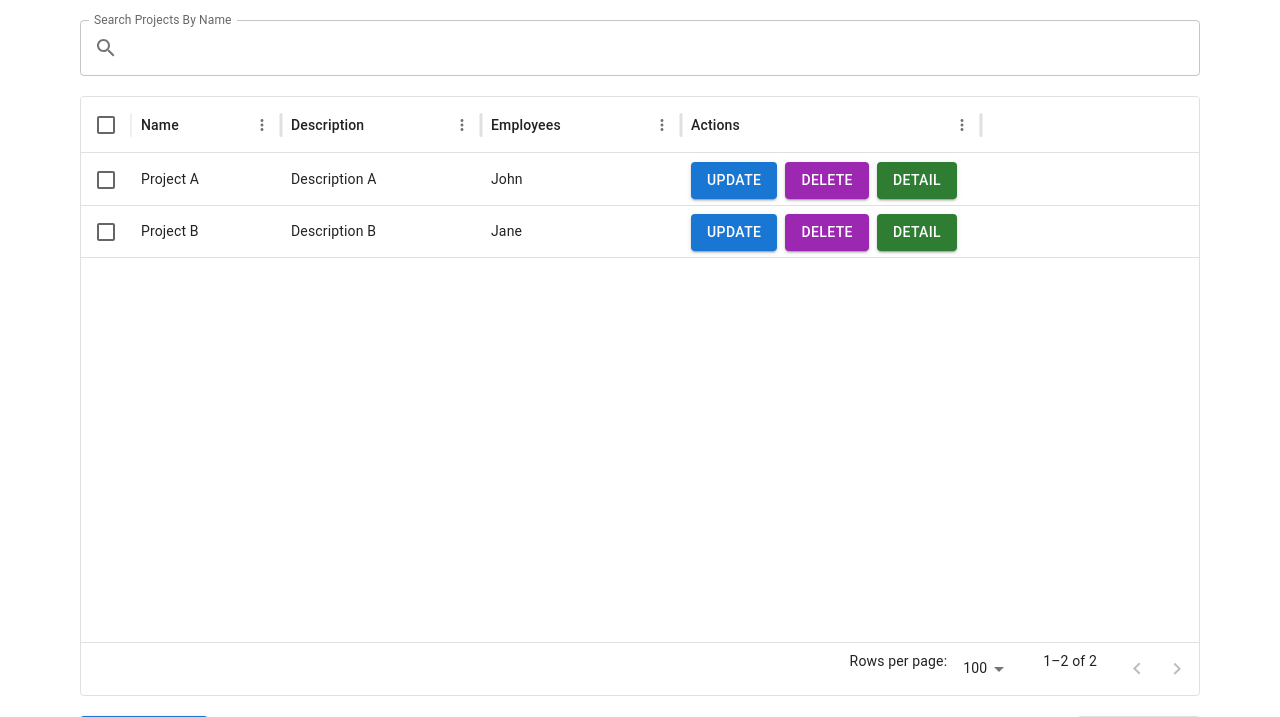
Test: ListProjectsComponent › handles project deletion failure
Click the button "Delete" in the row of "Project A". click: (827, 180)
box: [785,162,869,198]
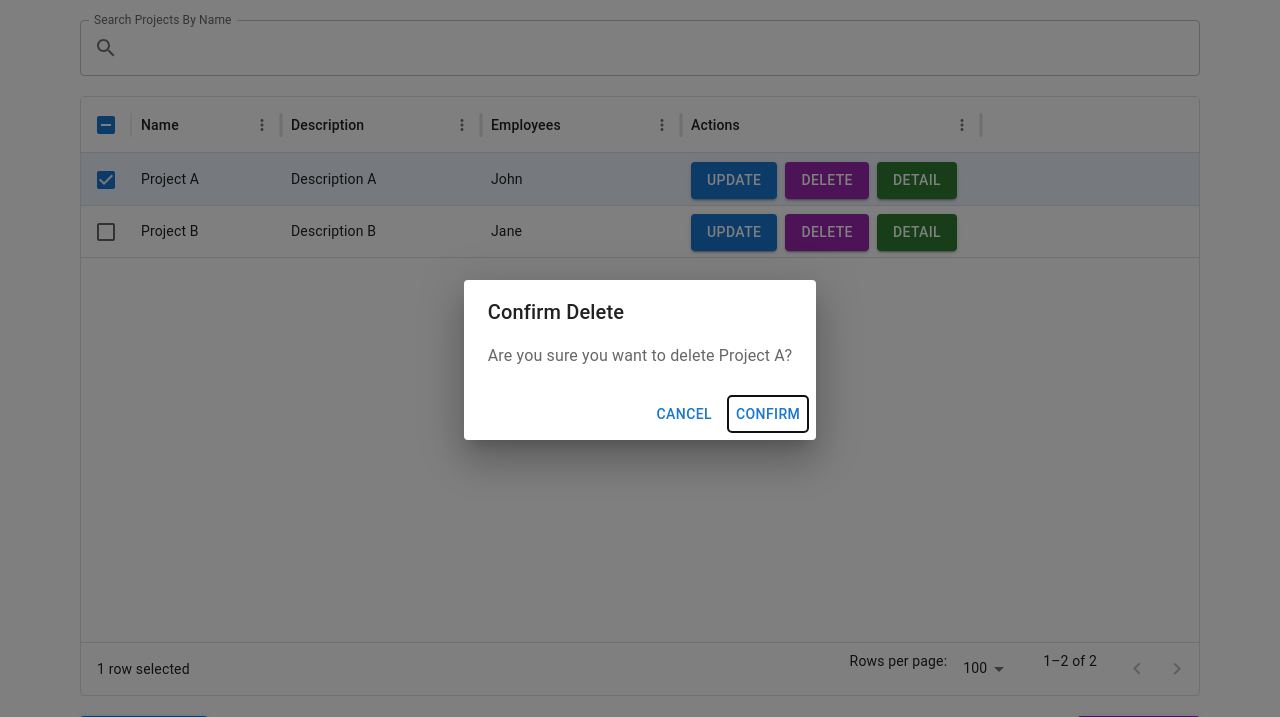
Click the button "Confirm". click: (768, 414)
box: [728,396,808,432]
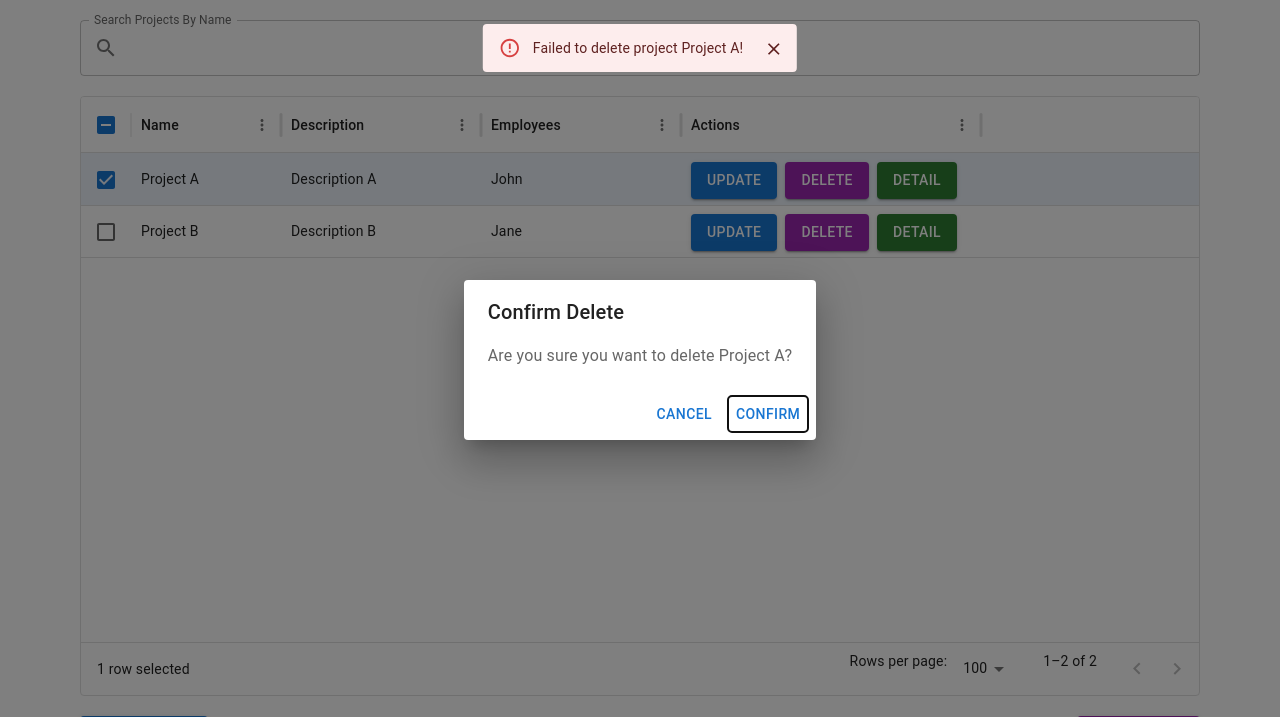
Now the text "Failed to delete project Project A!" is shown, box [533,40,743,56]
